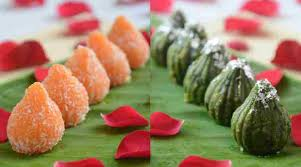modak: (173, 28, 252, 116), (236, 73, 293, 152), (66, 34, 136, 97), (6, 80, 62, 158), (37, 56, 93, 127)
